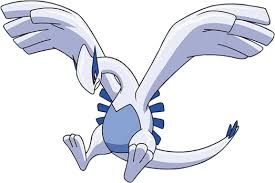lugia: (72, 44, 108, 95)
